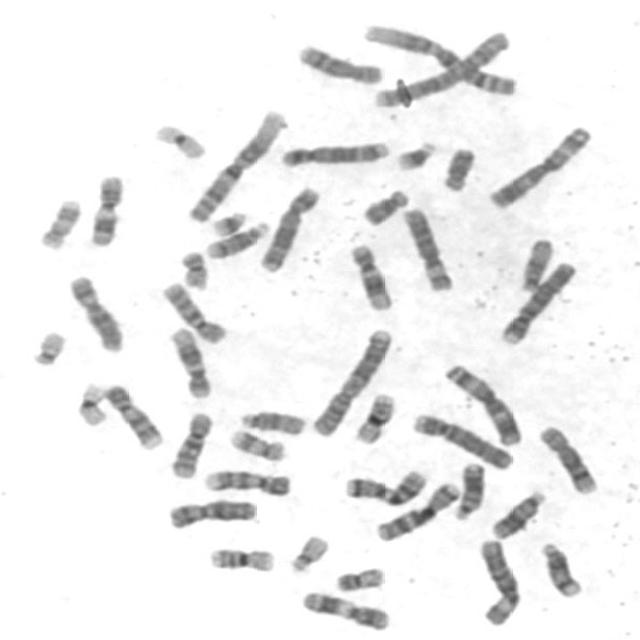A1: (356, 17, 519, 99), (181, 102, 289, 224)
A2: (363, 22, 514, 106), (304, 323, 395, 438)
A3: (481, 120, 595, 210), (438, 358, 525, 447)
B4: (493, 255, 579, 347), (405, 406, 516, 472)
B5: (253, 180, 322, 274), (275, 135, 392, 168)
C10: (155, 276, 229, 346), (163, 405, 216, 480)
C11: (294, 585, 392, 632), (82, 168, 126, 248)
C12: (164, 321, 214, 400), (344, 238, 394, 312)
C6: (396, 202, 457, 294), (472, 532, 524, 628)
C7: (370, 476, 463, 543), (337, 464, 430, 507)
C8: (532, 419, 600, 496), (290, 38, 385, 86)
C9: (98, 378, 164, 451), (196, 464, 294, 498)
D13: (484, 484, 548, 541), (446, 456, 487, 522)
D14: (198, 215, 272, 260), (533, 536, 585, 598)
D15: (513, 232, 557, 293), (234, 404, 309, 437)
E16: (348, 387, 398, 445), (202, 541, 278, 573)
E17: (32, 192, 84, 251), (223, 422, 288, 463)
E18: (356, 182, 412, 227), (435, 140, 479, 193)
F19: (147, 118, 209, 160), (70, 376, 110, 428)
F20: (329, 561, 387, 593), (174, 245, 210, 290)
G21: (389, 134, 439, 173), (204, 204, 250, 238)
G22: (282, 529, 331, 574), (25, 324, 68, 368)
X: (62, 268, 127, 354), (161, 493, 260, 530)
